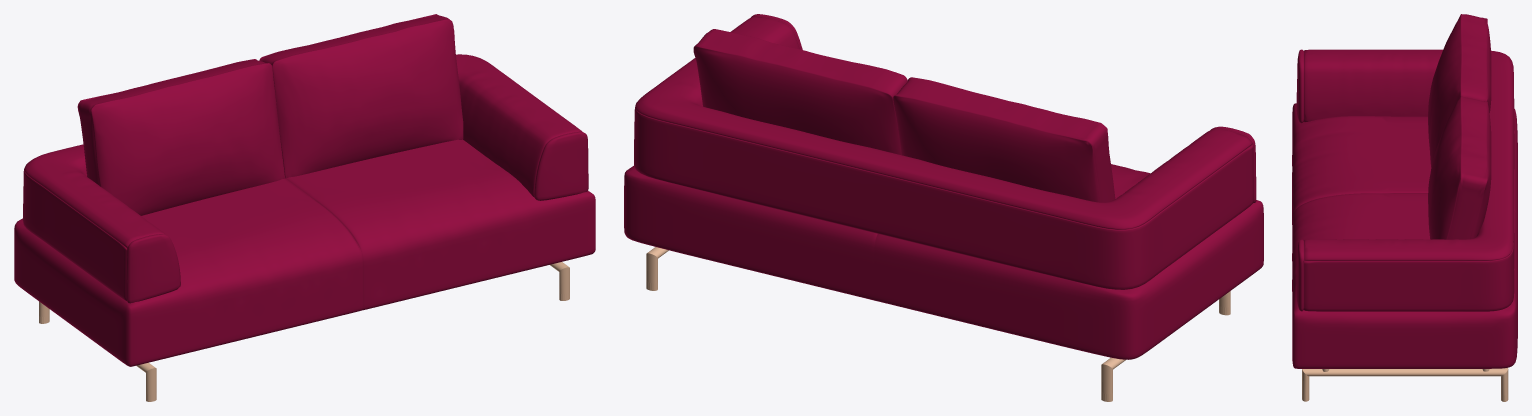
Rendered from couch.obj.
3 views of the same model, side by side, from view 1: azimuth 30°, elevation 25°; view 2: azimuth 150°, elevation 25°; view 3: azimuth 270°, elevation 25° (orthographic). The views are drawn at different scales.
Parts seen in each view (by area): view 1: ChamferBox16, Rectangle140, Rectangle134, Line134; view 2: Rectangle134, ChamferBox16, Rectangle140, Line134; view 3: ChamferBox16, Rectangle134, Rectangle140, Line134.
Part boxes in pixels (left/top/right/bottom): ChamferBox16: left=14, top=139, right=595, bottom=366; Rectangle140: left=77, top=14, right=463, bottom=215; Rectangle134: left=23, top=54, right=588, bottom=303; Line134: left=39, top=262, right=569, bottom=401; Rectangle134: left=634, top=14, right=1256, bottom=289; ChamferBox16: left=624, top=164, right=1263, bottom=359; Rectangle140: left=693, top=29, right=1115, bottom=202; Line134: left=646, top=247, right=1230, bottom=401; ChamferBox16: left=1292, top=103, right=1517, bottom=368; Rectangle134: left=1296, top=49, right=1514, bottom=311; Rectangle140: left=1428, top=14, right=1491, bottom=239; Line134: left=1302, top=368, right=1508, bottom=401.
Size of the model in its own units: 1.91 by 0.8891 by 0.8578.
